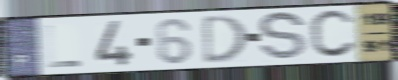4: (94, 18, 135, 69)
6: (154, 16, 194, 66)
C: (308, 8, 360, 61)
D: (201, 13, 249, 66)
L: (43, 23, 84, 70)
S: (257, 9, 308, 63)
